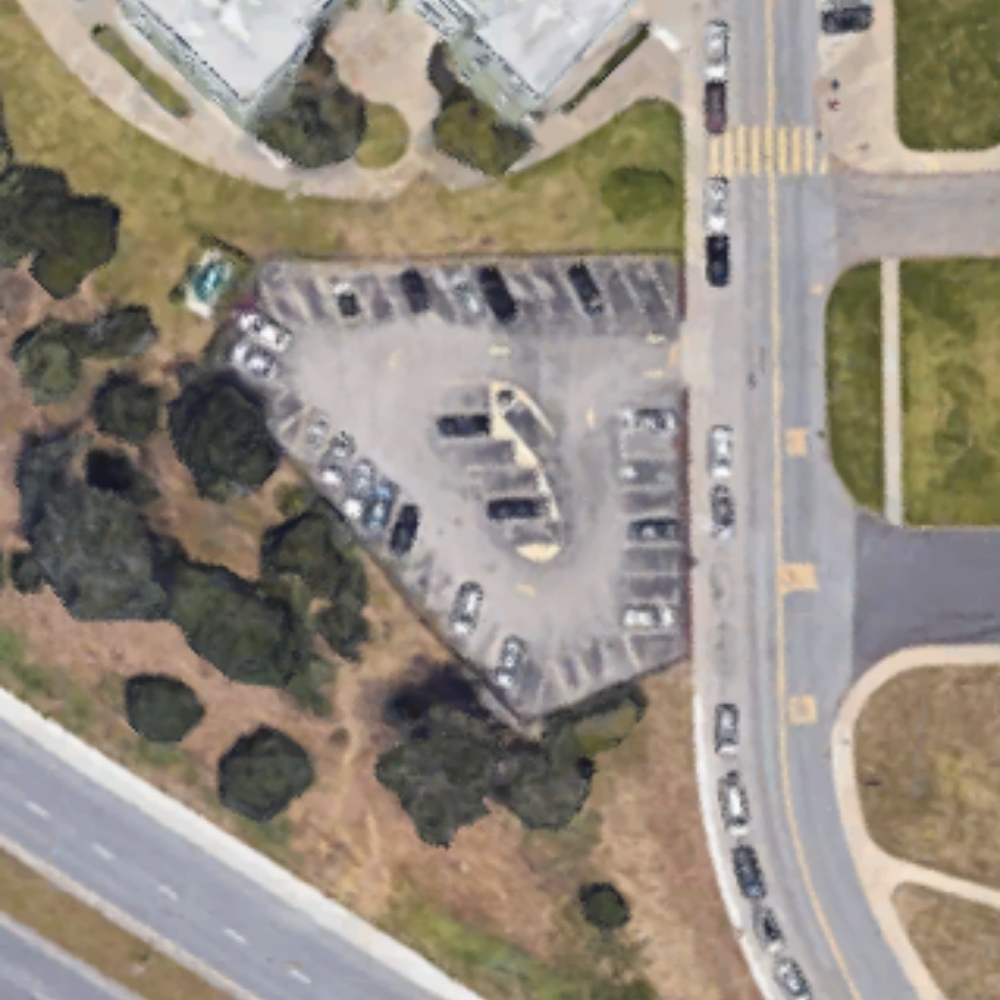parking: (200, 265, 690, 720)
